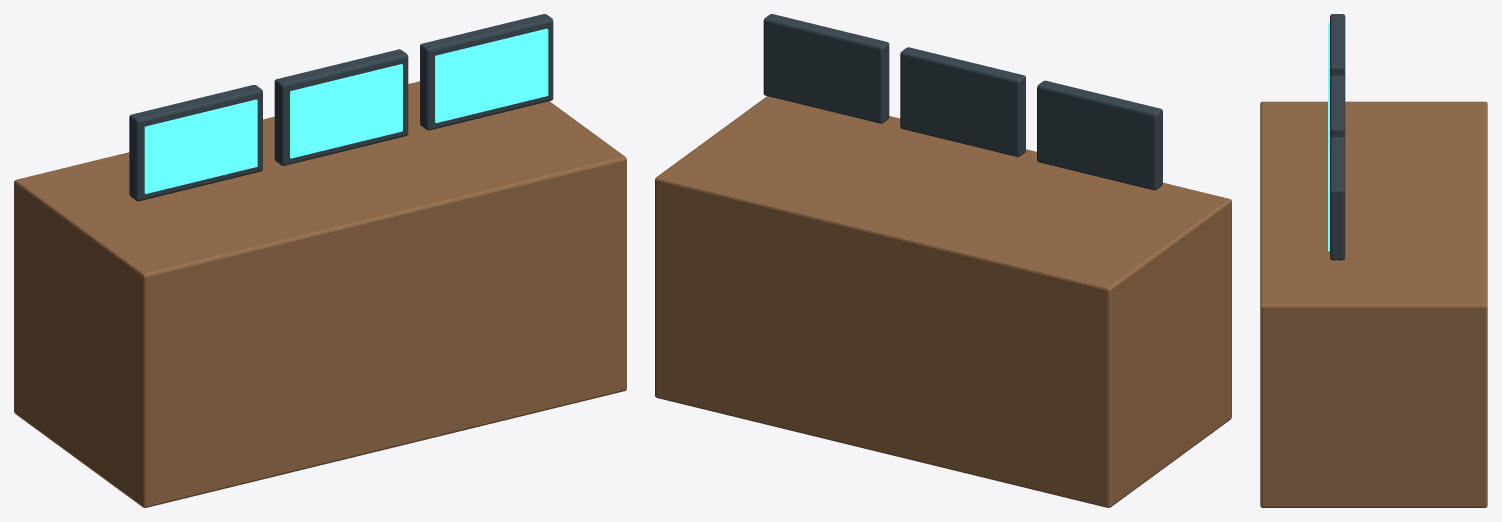
File: CC_S16_P2_Expansion_Studio_DevDesk_LOD0.fbx
3 renders of one model, left to right at view 1: azimuth 30°, elevation 25°; view 2: azimuth 150°, elevation 25°; view 3: azimuth 270°, elevation 25°, orthographic. The views are drawn at different scales.
Visible parts, largest first — view 1: CC_S16_P2_Expansion_Studio_DevDesk_LOD0_Desk, CC_S16_P2_Expansion_Studio_DevDesk_LOD0; view 2: CC_S16_P2_Expansion_Studio_DevDesk_LOD0_Desk, CC_S16_P2_Expansion_Studio_DevDesk_LOD0; view 3: CC_S16_P2_Expansion_Studio_DevDesk_LOD0_Desk, CC_S16_P2_Expansion_Studio_DevDesk_LOD0.
Part boxes in pixels (x1=…): CC_S16_P2_Expansion_Studio_DevDesk_LOD0_Desk: x1=14, y1=81, x2=626, y2=507; CC_S16_P2_Expansion_Studio_DevDesk_LOD0: x1=129, y1=14, x2=553, y2=201; CC_S16_P2_Expansion_Studio_DevDesk_LOD0_Desk: x1=655, y1=96, x2=1231, y2=507; CC_S16_P2_Expansion_Studio_DevDesk_LOD0: x1=763, y1=14, x2=1162, y2=190; CC_S16_P2_Expansion_Studio_DevDesk_LOD0_Desk: x1=1260, y1=101, x2=1487, y2=507; CC_S16_P2_Expansion_Studio_DevDesk_LOD0: x1=1328, y1=14, x2=1345, y2=260.
Size of what is drawn, in the model's own units: 1.6 by 1.11 by 0.75.
